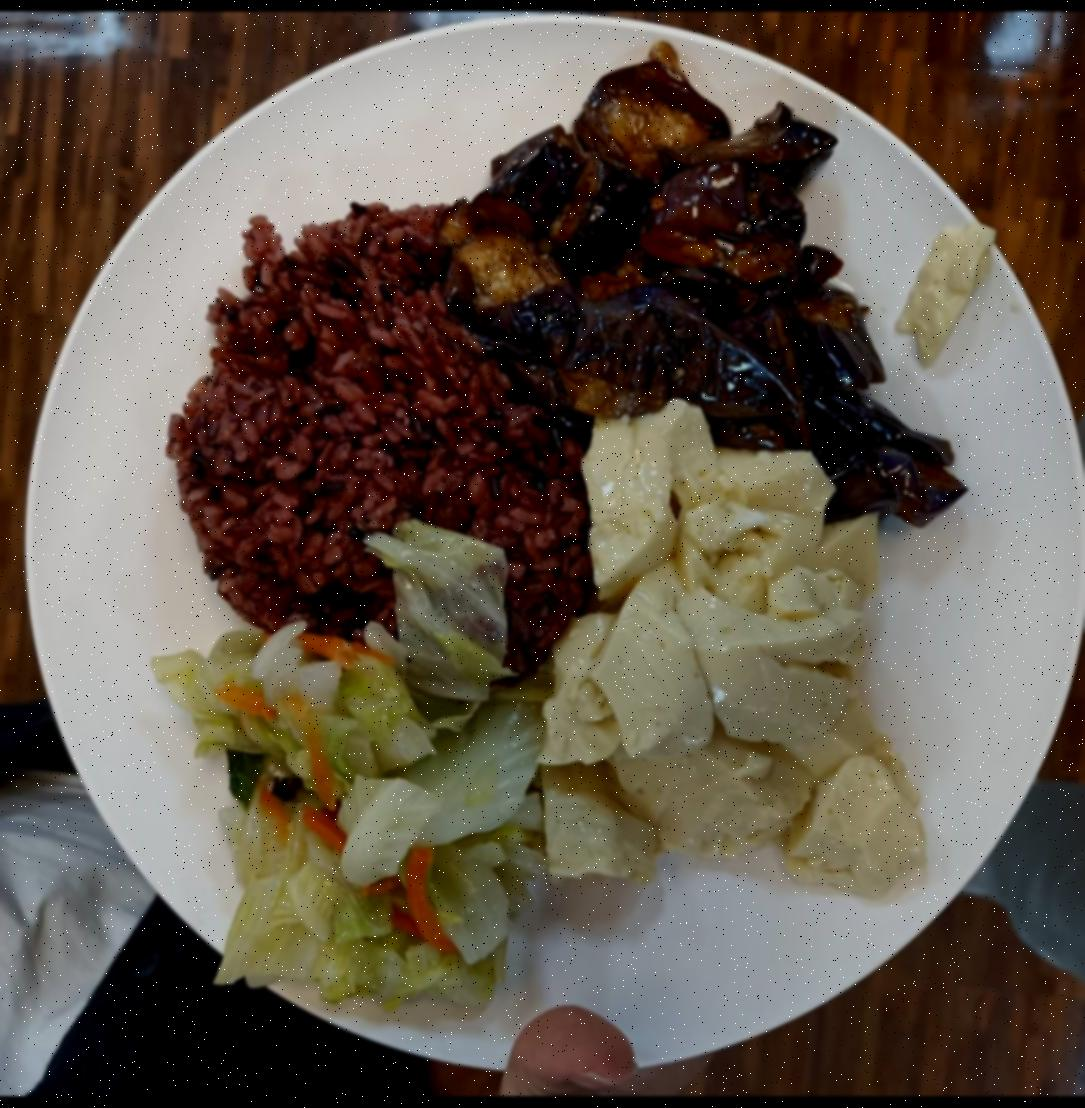plate: (19, 13, 1085, 1079)
purple rice: (159, 206, 564, 660)
side dish: (549, 437, 911, 924), (160, 614, 532, 994), (487, 107, 872, 445)
